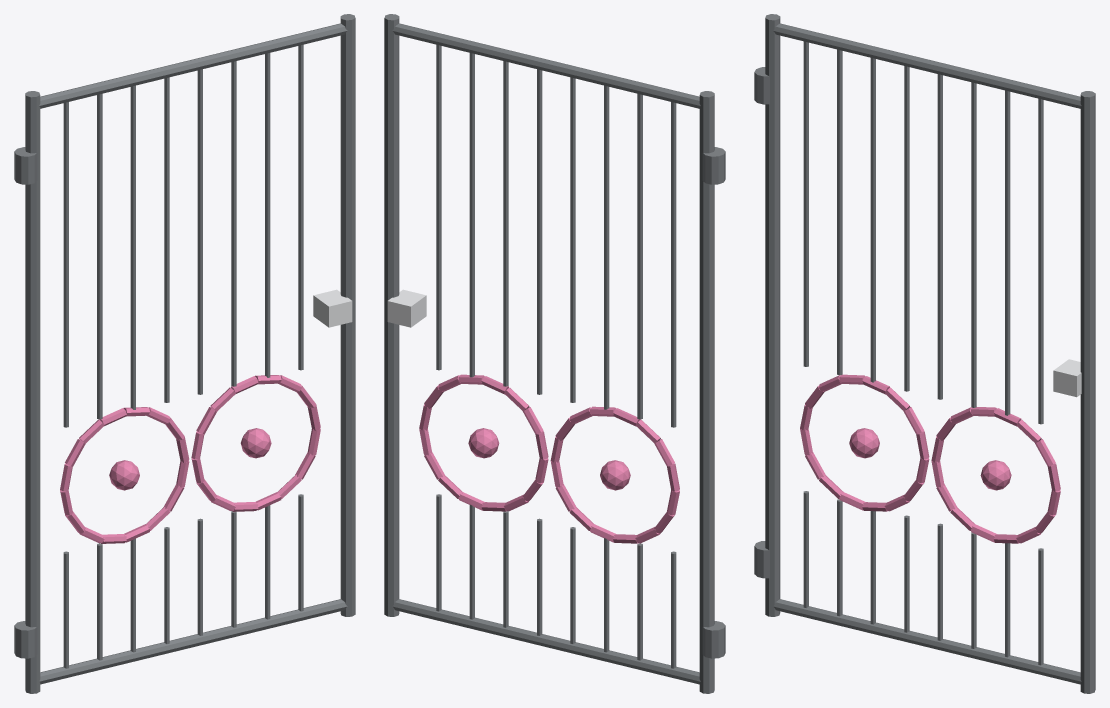
The model's file is gate_rear.glb.
3 views of the same model, side by side, from view 1: azimuth 30°, elevation 25°; view 2: azimuth 150°, elevation 25°; view 3: azimuth 330°, elevation 25° (orthographic).
Visible parts, largest first — view 1: gate_rear_steel_d, gate_rear_accent, gate_rear_chrome; view 2: gate_rear_steel_d, gate_rear_accent, gate_rear_chrome; view 3: gate_rear_steel_d, gate_rear_accent, gate_rear_chrome.
Boxes of the visible parts, box(x1,y1,x2,y2) form: gate_rear_steel_d: box(14, 14, 355, 693); gate_rear_accent: box(60, 375, 320, 543); gate_rear_chrome: box(313, 289, 352, 327); gate_rear_steel_d: box(384, 14, 725, 693); gate_rear_accent: box(419, 374, 679, 543); gate_rear_chrome: box(387, 289, 426, 327); gate_rear_steel_d: box(754, 14, 1095, 693); gate_rear_accent: box(800, 374, 1060, 543); gate_rear_chrome: box(1053, 359, 1081, 397).
Bounding box in the file's own units: 1.01 × 1.7 × 0.08.
